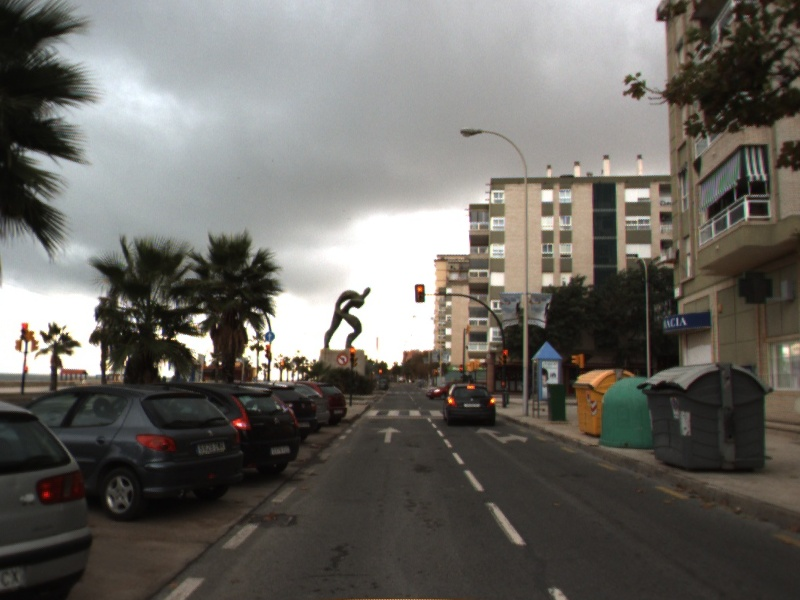STRAIGHT: (376, 425, 403, 444)
STRAIGHT_RIGHT: (474, 425, 530, 445)
